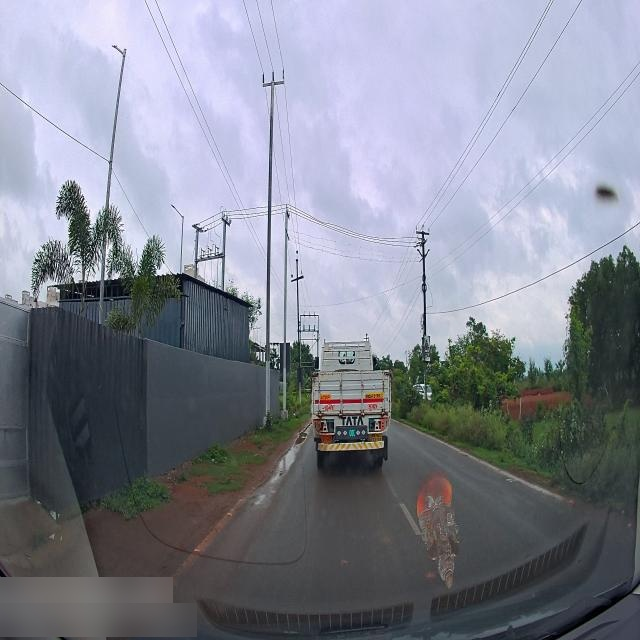pothole: (278, 433, 308, 476)
